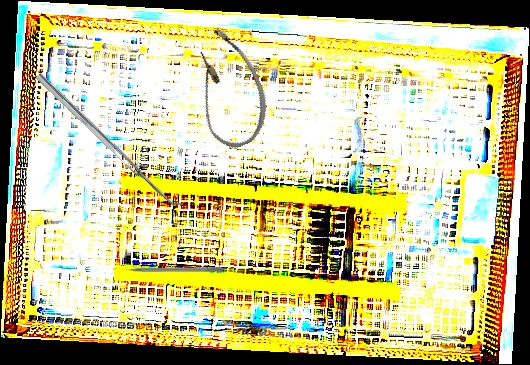Cannula: (174, 21, 281, 156)
Pusher: (113, 266, 224, 272)
Spatula Surgical: (35, 67, 186, 213)
